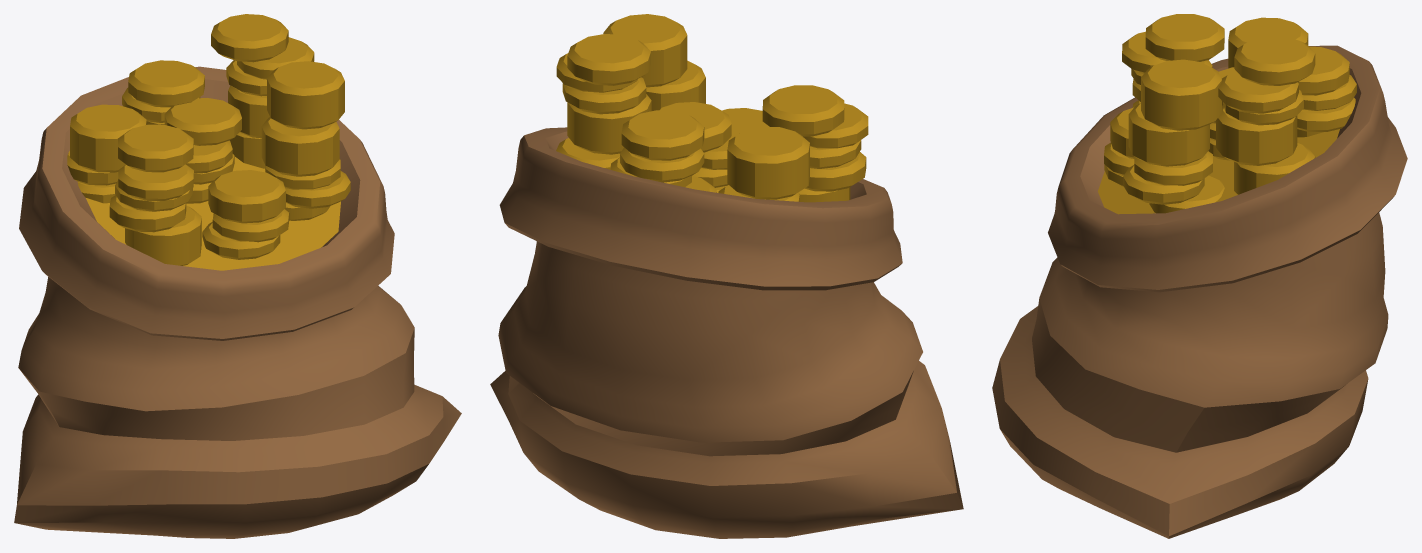
The model's file is Gold Coins.fbx.
3 views of the same model, side by side, from view 1: azimuth 30°, elevation 25°; view 2: azimuth 150°, elevation 25°; view 3: azimuth 270°, elevation 25° (orthographic). The views are drawn at different scales.
Parts seen in each view (by area): view 1: Gold Bag; view 2: Gold Bag; view 3: Gold Bag.
Part boxes in pixels (bbox=[...]): Gold Bag: bbox=[14, 14, 461, 538]; Gold Bag: bbox=[490, 14, 963, 538]; Gold Bag: bbox=[992, 14, 1407, 538].
Bounding box in the file's own units: 43.16 × 39.87 × 33.61.
